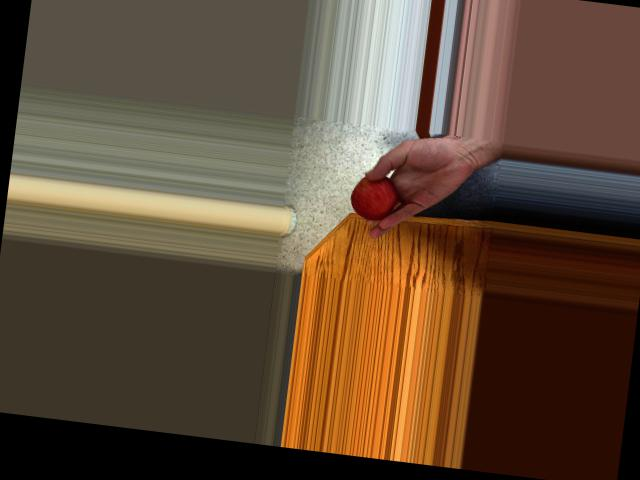apple: (349, 171, 403, 223)
